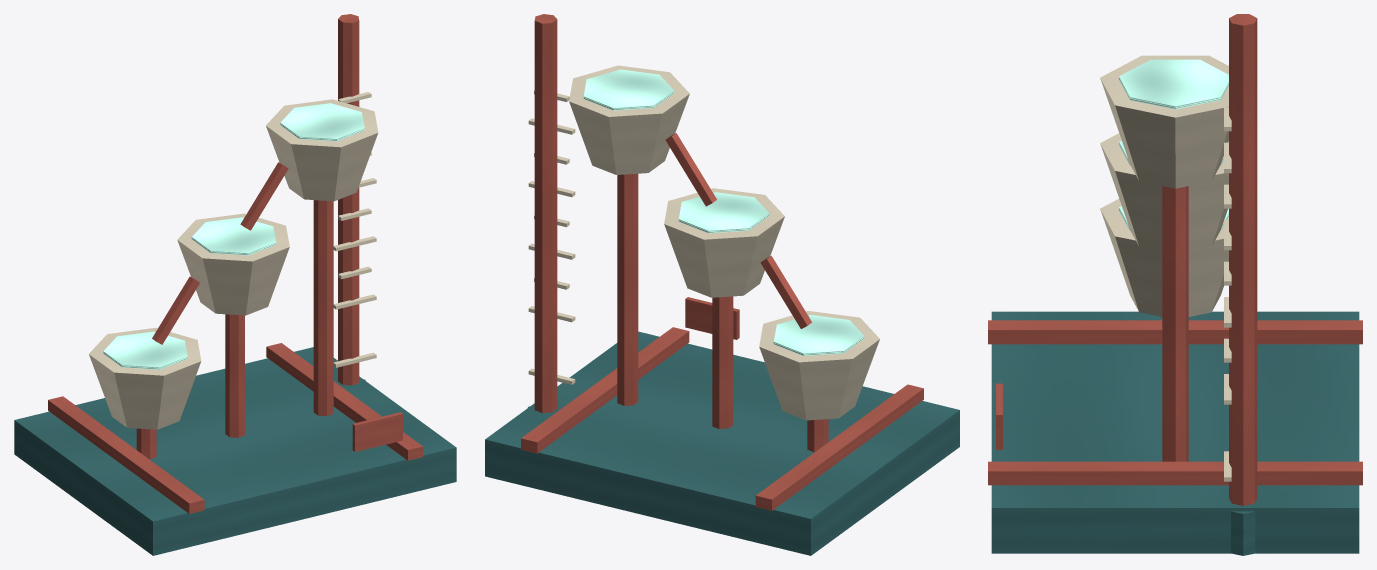
The model's file is atlas100-s039-a01.lod1.glb.
3 views of the same model, side by side, from view 1: azimuth 30°, elevation 25°; view 2: azimuth 150°, elevation 25°; view 3: azimuth 270°, elevation 25° (orthographic). The views are drawn at different scales.
Visible parts, largest first — view 1: atlas100-s039-a01:part-000, atlas100-s039-a01:part-011, atlas100-s039-a01:part-004, atlas100-s039-a01:part-007, atlas100-s039-a01:part-014, atlas100-s039-a01:part-010, atlas100-s039-a01:part-001, atlas100-s039-a01:part-002, atlas100-s039-a01:part-012, atlas100-s039-a01:part-006, atlas100-s039-a01:part-008, atlas100-s039-a01:part-005 (+4 smaller); view 2: atlas100-s039-a01:part-000, atlas100-s039-a01:part-014, atlas100-s039-a01:part-011, atlas100-s039-a01:part-004, atlas100-s039-a01:part-007, atlas100-s039-a01:part-010, atlas100-s039-a01:part-001, atlas100-s039-a01:part-002, atlas100-s039-a01:part-006, atlas100-s039-a01:part-012, atlas100-s039-a01:part-008, atlas100-s039-a01:part-005 (+4 smaller); view 3: atlas100-s039-a01:part-000, atlas100-s039-a01:part-014, atlas100-s039-a01:part-011, atlas100-s039-a01:part-002, atlas100-s039-a01:part-001, atlas100-s039-a01:part-010, atlas100-s039-a01:part-007, atlas100-s039-a01:part-004, atlas100-s039-a01:part-012, atlas100-s039-a01:part-015, atlas100-s039-a01:part-026.
Boxes of the visible parts, x1,y1,x2,y2 form: atlas100-s039-a01:part-000: (14,347,456,555); atlas100-s039-a01:part-011: (266,99,378,201); atlas100-s039-a01:part-004: (89,327,201,429); atlas100-s039-a01:part-007: (177,213,289,315); atlas100-s039-a01:part-014: (338,14,359,385); atlas100-s039-a01:part-010: (313,200,333,416); atlas100-s039-a01:part-001: (48,396,204,513); atlas100-s039-a01:part-002: (266,343,422,460); atlas100-s039-a01:part-012: (280,103,364,141); atlas100-s039-a01:part-006: (225,314,244,437); atlas100-s039-a01:part-008: (191,217,276,255); atlas100-s039-a01:part-005: (103,331,187,369); atlas100-s039-a01:part-000: (485,331,959,555); atlas100-s039-a01:part-014: (534,14,557,412); atlas100-s039-a01:part-011: (569,65,689,174); atlas100-s039-a01:part-004: (759,311,879,420); atlas100-s039-a01:part-007: (664,188,784,297); atlas100-s039-a01:part-010: (617,173,638,405); atlas100-s039-a01:part-001: (755,384,923,510); atlas100-s039-a01:part-002: (521,327,689,453); atlas100-s039-a01:part-006: (712,296,733,428); atlas100-s039-a01:part-012: (583,69,674,110); atlas100-s039-a01:part-008: (678,192,769,233); atlas100-s039-a01:part-005: (773,315,864,355); atlas100-s039-a01:part-000: (991,311,1359,553); atlas100-s039-a01:part-014: (1229,14,1257,505); atlas100-s039-a01:part-011: (1100,55,1228,188); atlas100-s039-a01:part-002: (988,461,1362,485); atlas100-s039-a01:part-001: (988,320,1362,344); atlas100-s039-a01:part-010: (1162,186,1188,461); atlas100-s039-a01:part-007: (1100,133,1228,251); atlas100-s039-a01:part-004: (1100,199,1228,316); atlas100-s039-a01:part-012: (1119,59,1228,109); atlas100-s039-a01:part-015: (1231,511,1255,555); atlas100-s039-a01:part-026: (996,383,1002,449).
Size of the model in its own units: 2.46 by 3 by 1.94.
4 materials, 4 textured.
